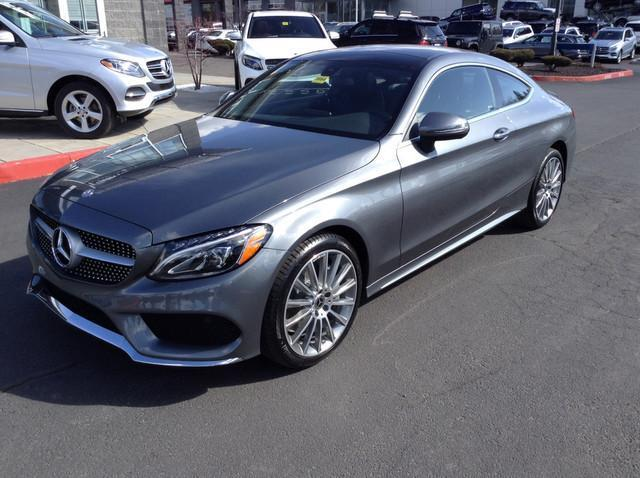C300Coupe: (23, 44, 581, 368)
